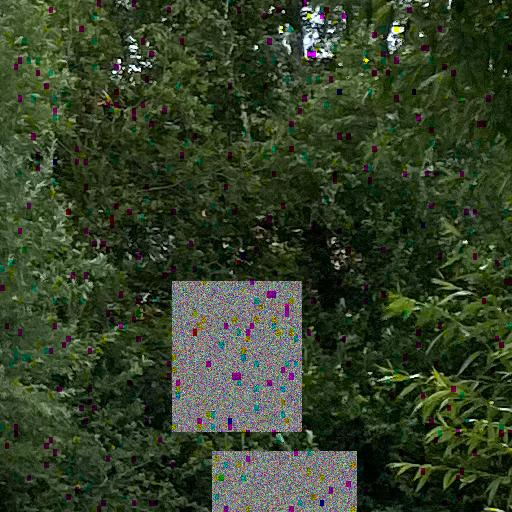tree: (22, 1, 511, 511), (1, 1, 157, 511), (372, 216, 512, 512)
